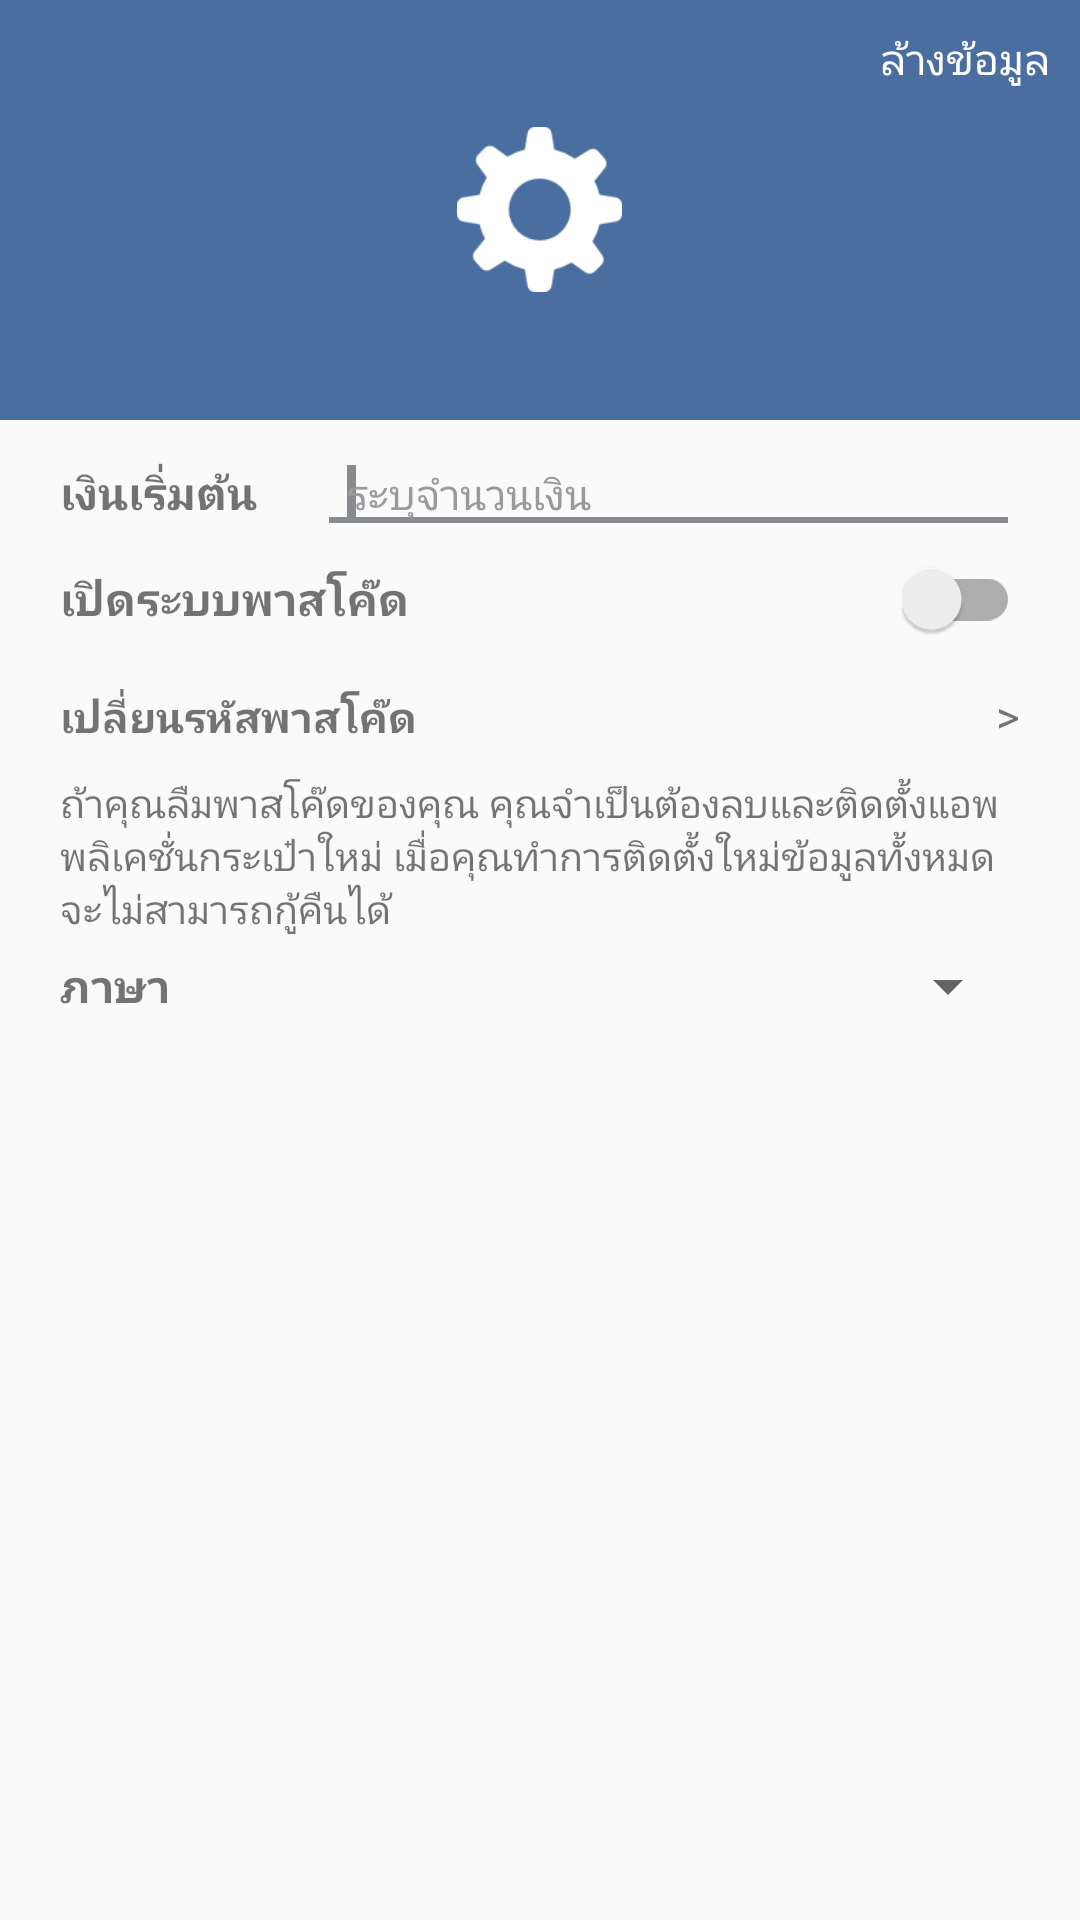

Named icons in this screenshot (1080w x 1920h) and their centers, point (x, y):
setting: point (539, 209)
